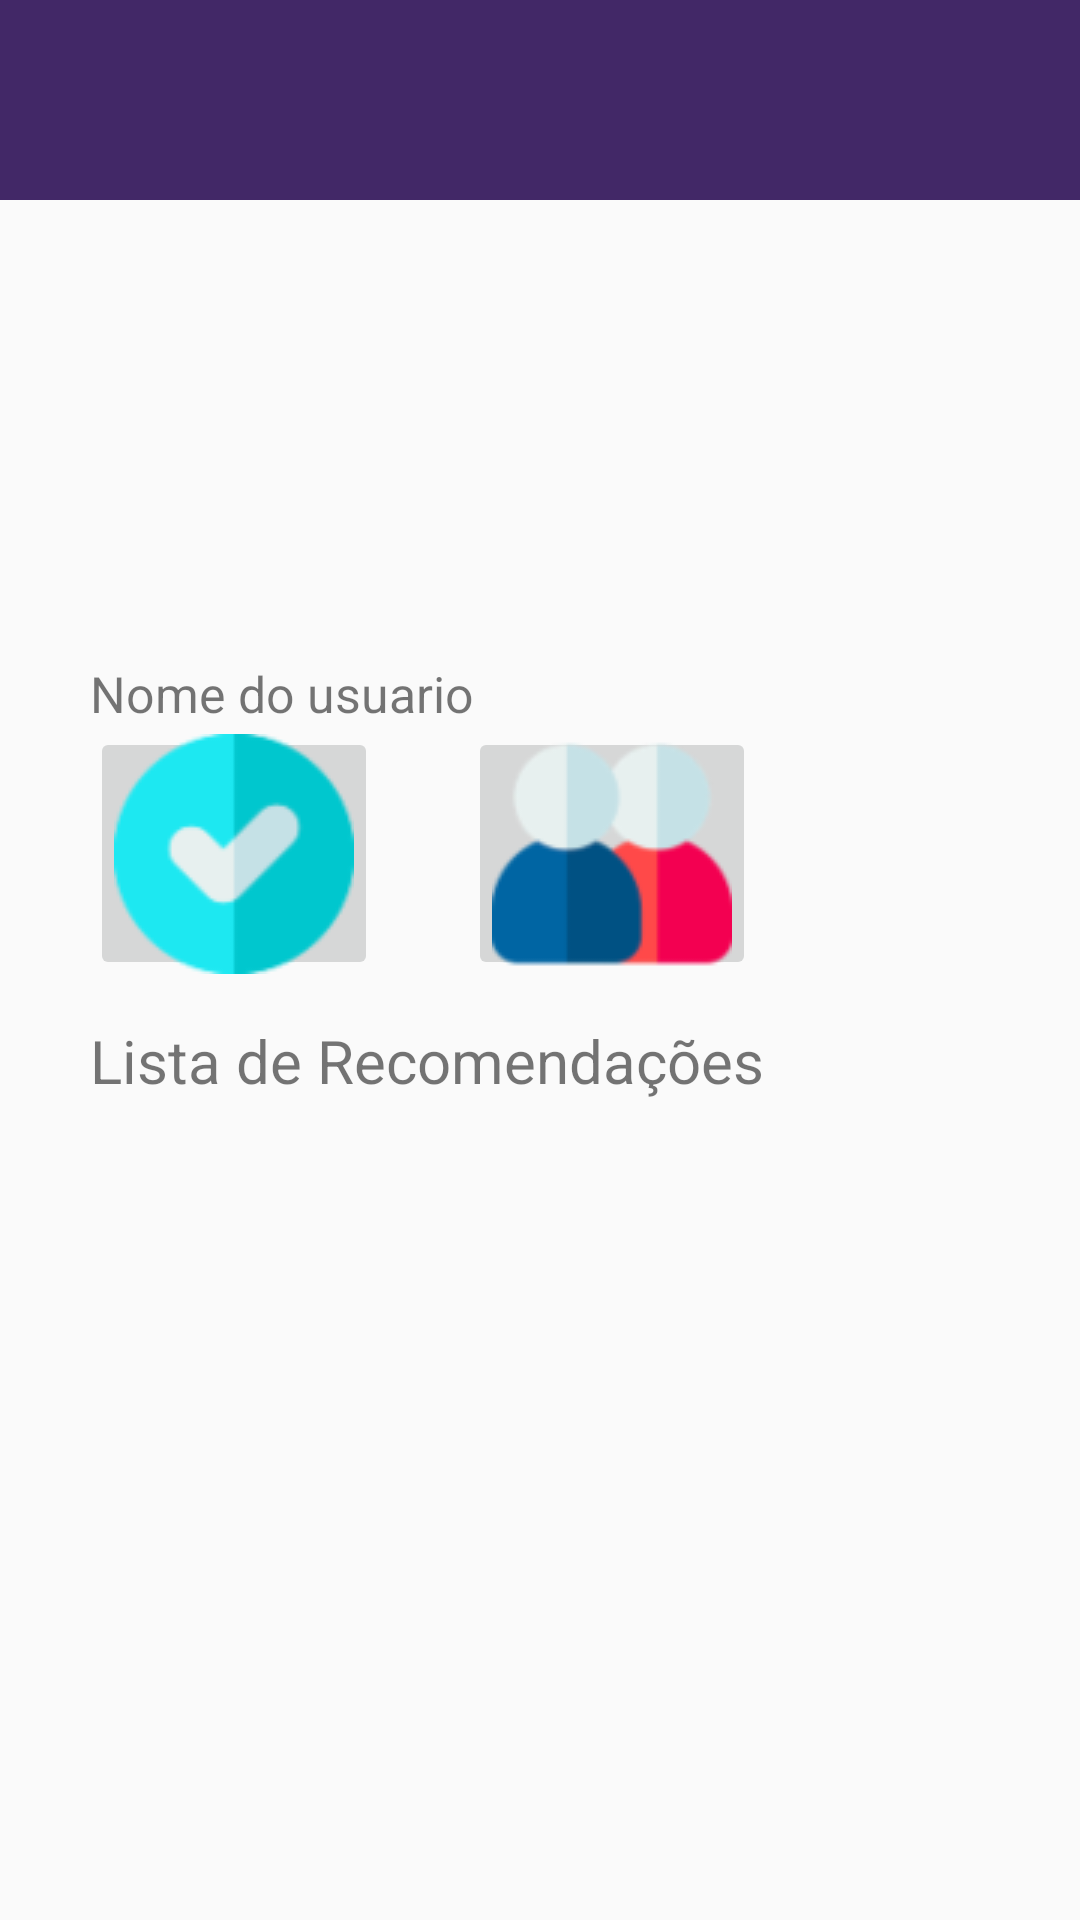

Locate icon controls on the screen. Image size 1080 x 1920, boxes as (x1, y1, x2, y2).
friends: (480, 745, 744, 966)
verified: (102, 734, 366, 974)
